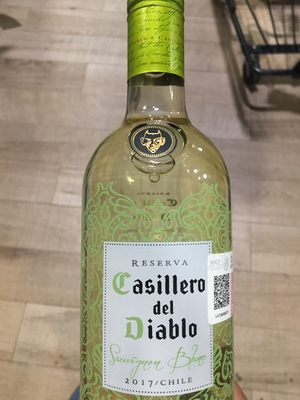casillero del diablo sauvignon blanc: (77, 10, 242, 400)
